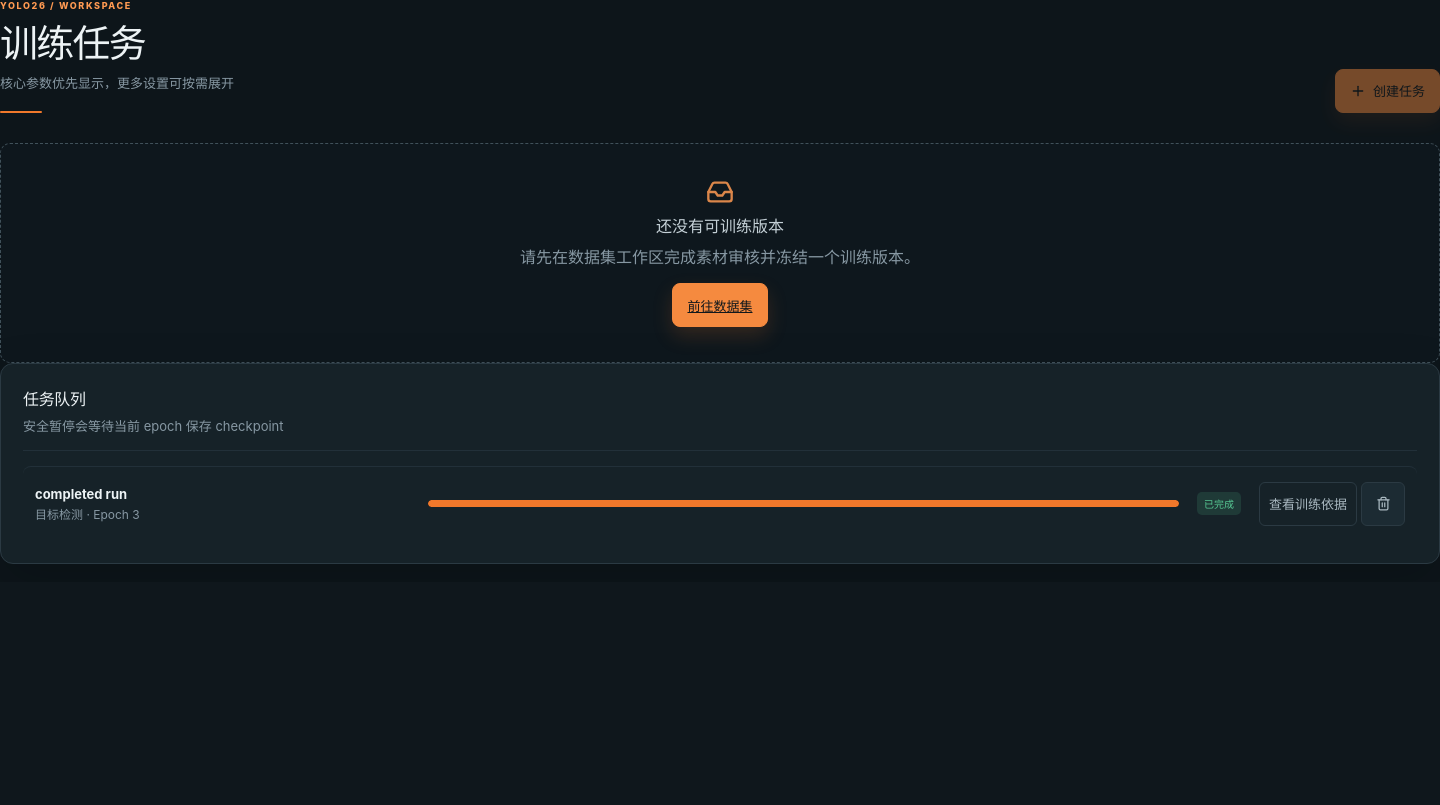
Scenario: TrainingPage › loads training evidence on demand without hiding the job row
Expected: the text "completed run" is shown, [35,486,127,502]
What coordinates should you click on to do the following:
click the button "查看训练依据"
I would click on:
 (1308, 504)
Its box is [1259,482,1357,526].
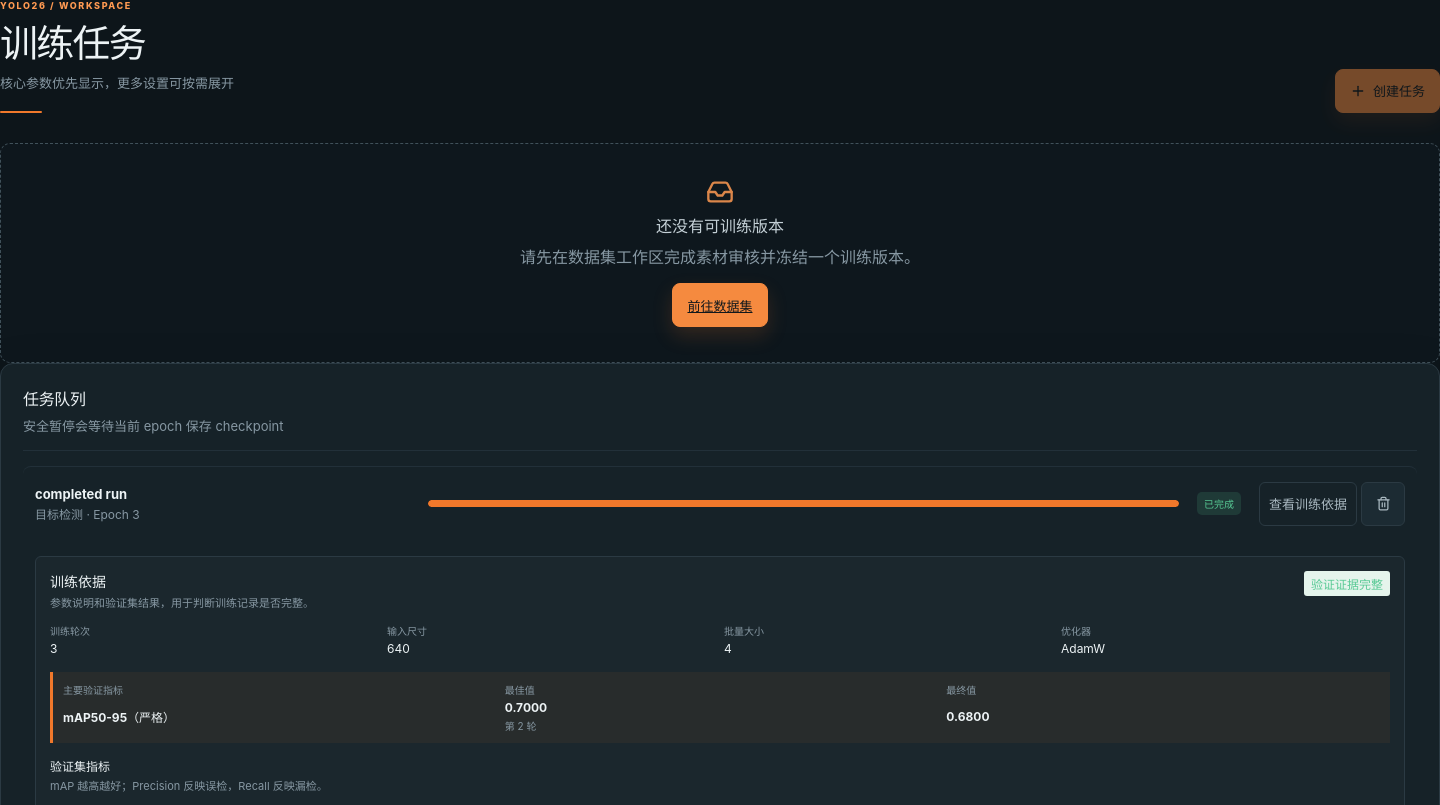
Expected: the text "验证证据完整" is shown, [1304,571,1390,596]
Expected: the text "mAP50-95（严格）" below "主要验证指标" is shown, [63,710,175,725]
